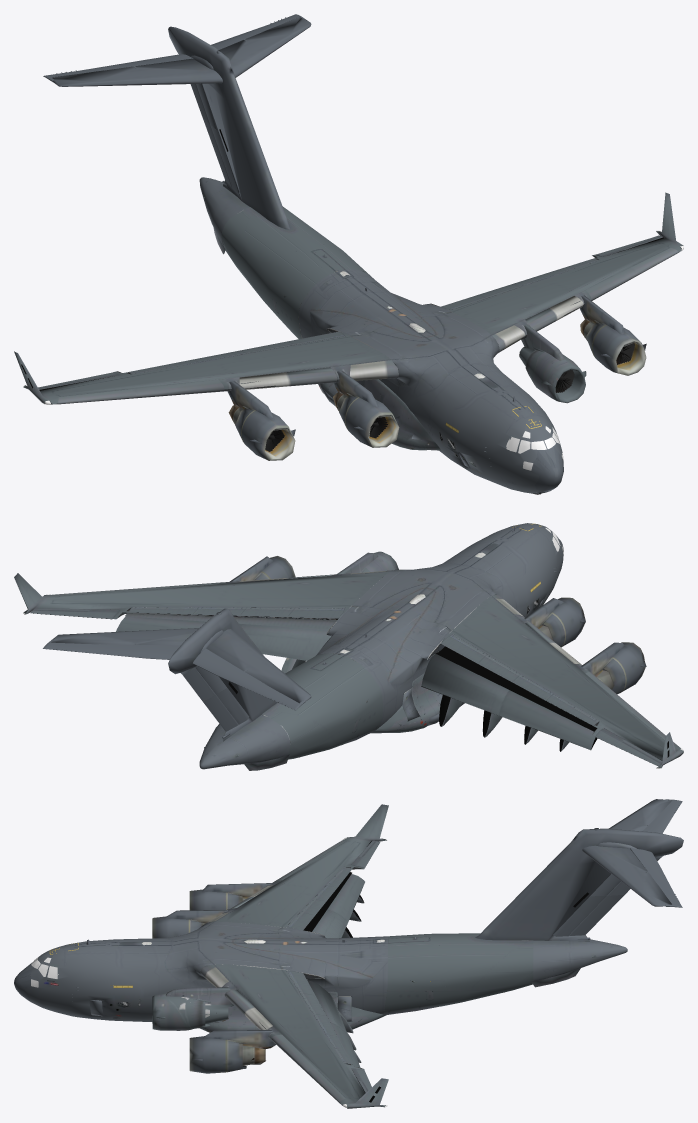
Rendered from cargo_jet.glb.
3 views of the same model, one above another, from view 1: azimuth 30°, elevation 25°; view 2: azimuth 150°, elevation 25°; view 3: azimuth 270°, elevation 25° (orthographic). The views are drawn at different scales.
Parts seen in each view (by area): view 1: BODY; view 2: BODY; view 3: BODY.
Part boxes in pixels (box(x1,y1,x2,y2)): BODY: box(14, 14, 683, 494); BODY: box(14, 523, 683, 770); BODY: box(14, 799, 683, 1108).
Size of the model in its own units: 52.79 by 17.14 by 54.55.
Materials: 52 (51 with a texture image).
